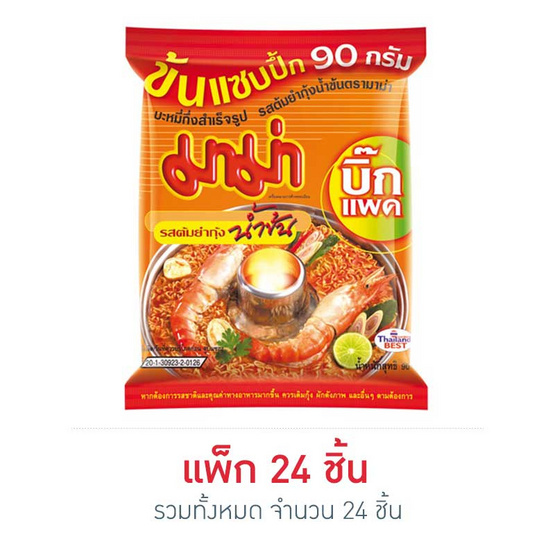Snack: (113, 20, 439, 419)
